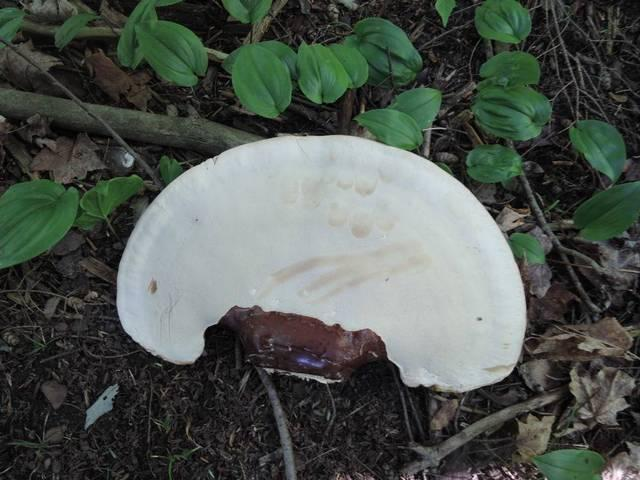poisonous_mushroom: (114, 132, 528, 477)
